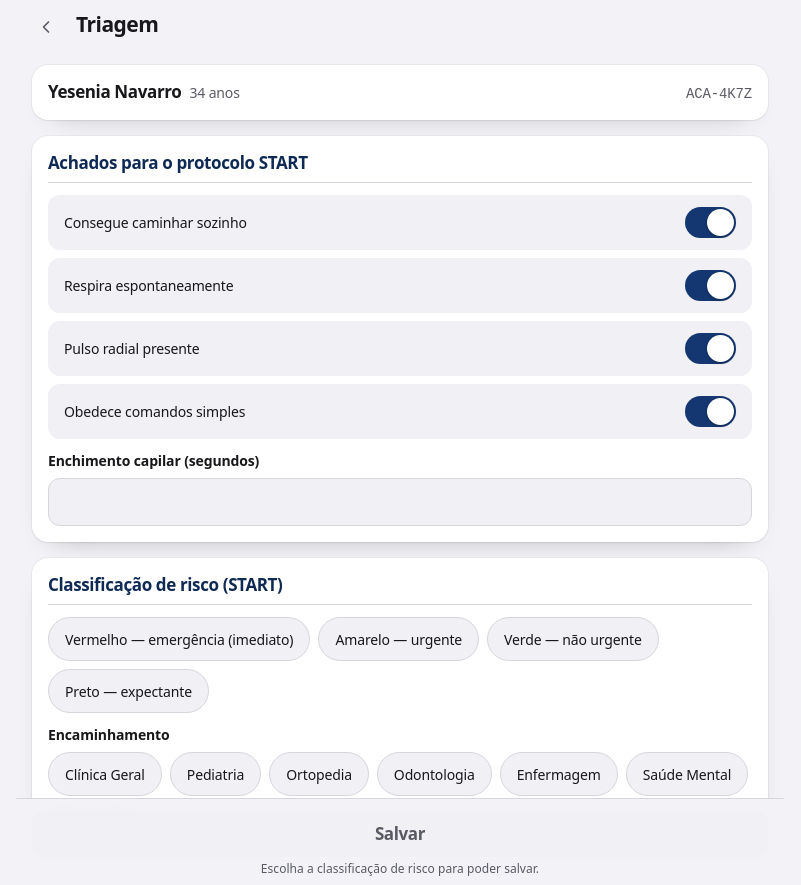
it: Triagem › mostra a sugestão do START enquanto os achados são marcados
The image size is (801, 885).
Click the checkbox labelled "Consegue caminhar sozinho" at (155, 222), box x1=48 y1=195 x2=752 y2=250
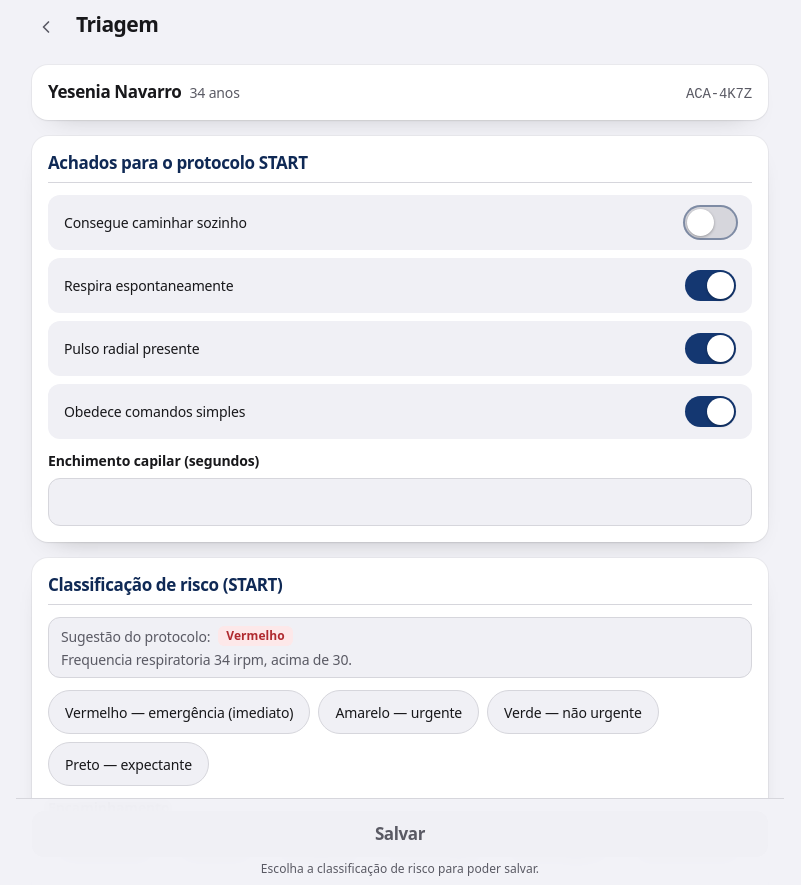
Expected: the text "Frequencia respiratoria 34 irpm, acima de 30." is shown, x1=61 y1=650 x2=352 y2=669
